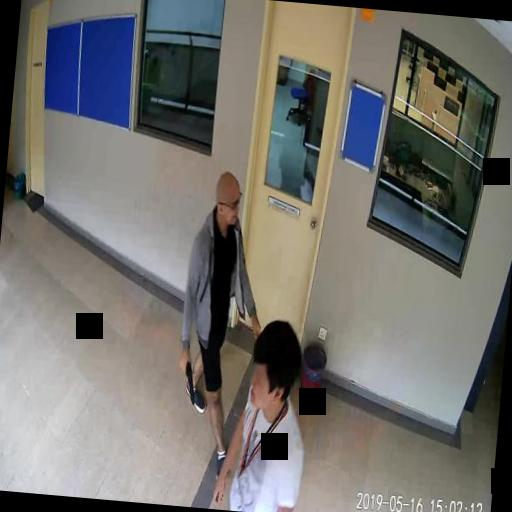Handgun: (176, 356, 197, 402)
